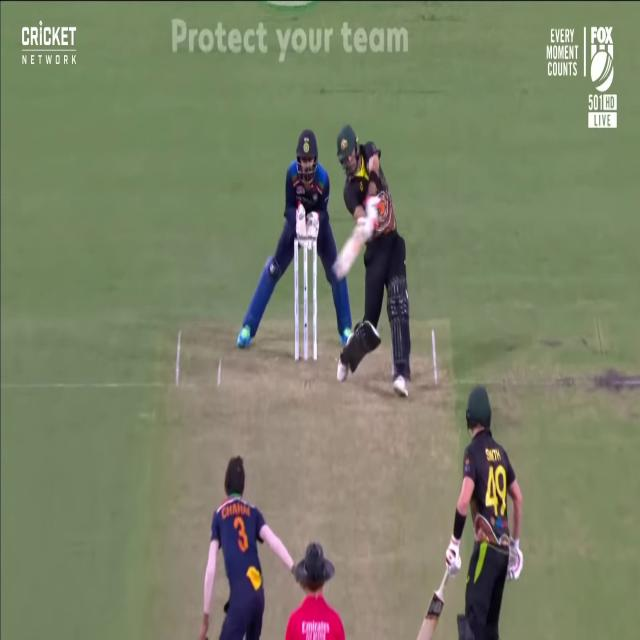stump: (294, 234, 317, 360)
